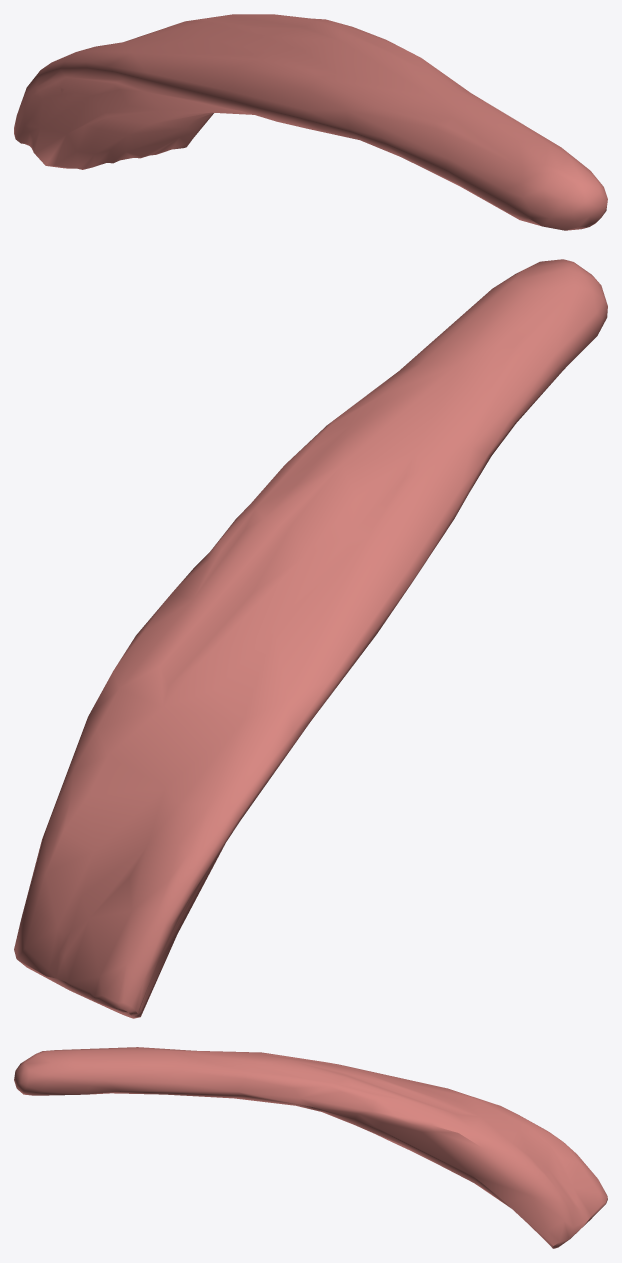
File: fma46326_fj1580.glb
3 views of the same model, one above another, from view 1: azimuth 30°, elevation 25°; view 2: azimuth 150°, elevation 25°; view 3: azimuth 270°, elevation 25° (orthographic). The views are drawn at different scales.
Parts seen in each view (by area): view 1: FMA46326_FJ1580; view 2: FMA46326_FJ1580; view 3: FMA46326_FJ1580.
Boxes of the visible parts, x1,y1,x2,y2 form: FMA46326_FJ1580: [14, 14, 607, 230]; FMA46326_FJ1580: [14, 259, 607, 1018]; FMA46326_FJ1580: [14, 1047, 607, 1248].
Bounding box in the file's own units: 0.0076 × 0.0139 × 0.0392.
